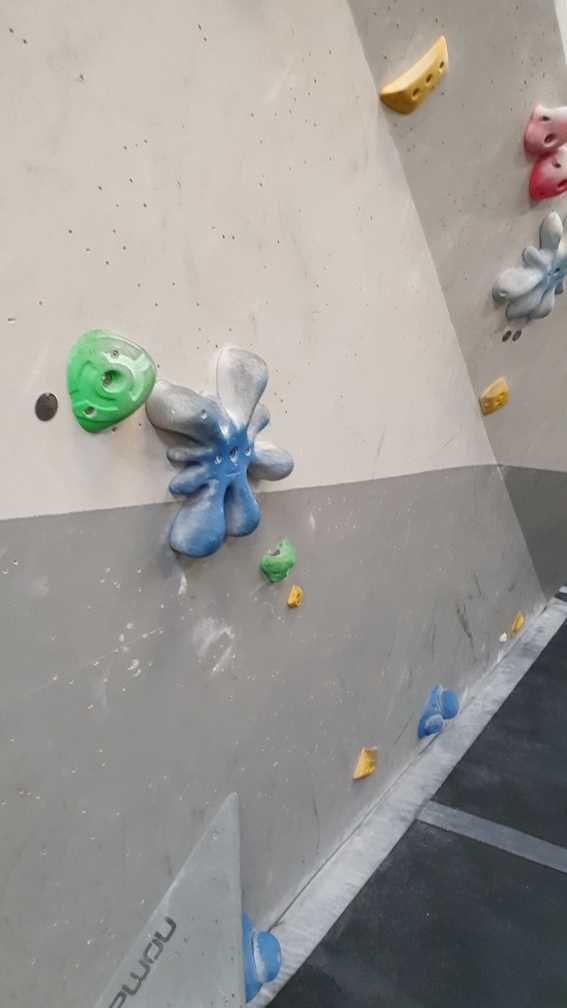Hand Start: (32, 387, 61, 425)
Jug: (66, 328, 166, 437), (258, 535, 301, 588), (529, 99, 567, 150)
Octopus Pinch: (146, 340, 300, 559), (496, 212, 567, 325)
Sloper: (241, 909, 284, 998)
